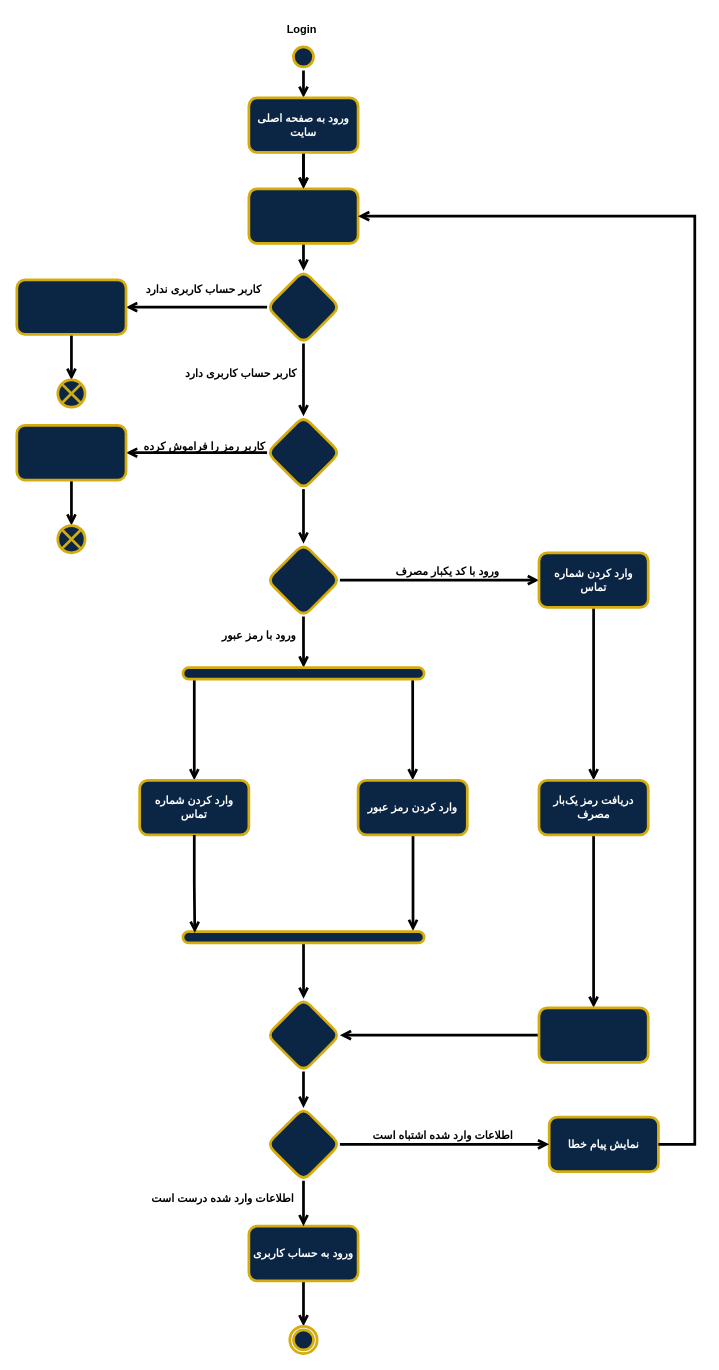
This 719x1370 diagram has some shape labels left out. Each missing label, with the centre of its shape:
"انتقال به صفحه فراموشی رمز" belongs at point (71, 452).
"انتقال به صفحه ورود" belongs at point (303, 215).
"رفتن به صفحه ثبتنام" belongs at point (71, 306).
"وارد کردن کد یک‌بار مصرف" belongs at point (593, 1034).
